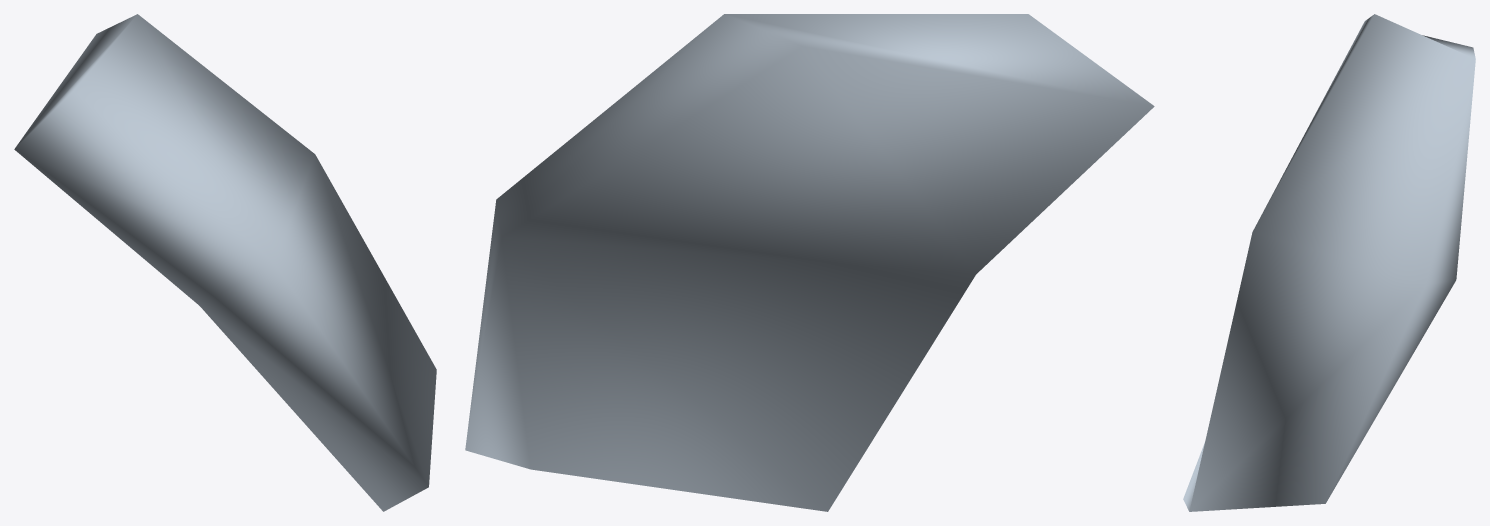
The model's file is cuneocuboid-interosseous-ligament-r.glb.
3 views of the same model, side by side, from view 1: azimuth 30°, elevation 25°; view 2: azimuth 150°, elevation 25°; view 3: azimuth 270°, elevation 25° (orthographic). The views are drawn at different scales.
Visible parts, largest first — view 1: Cuneocuboid interosseous ligament.r; view 2: Cuneocuboid interosseous ligament.r; view 3: Cuneocuboid interosseous ligament.r.
Part boxes in pixels (x1,y1,x2,y2): Cuneocuboid interosseous ligament.r: [14, 14, 436, 511]; Cuneocuboid interosseous ligament.r: [465, 14, 1154, 511]; Cuneocuboid interosseous ligament.r: [1183, 14, 1475, 511].
Bounding box in the file's own units: 0.00465 × 0.00453 × 0.00304.
